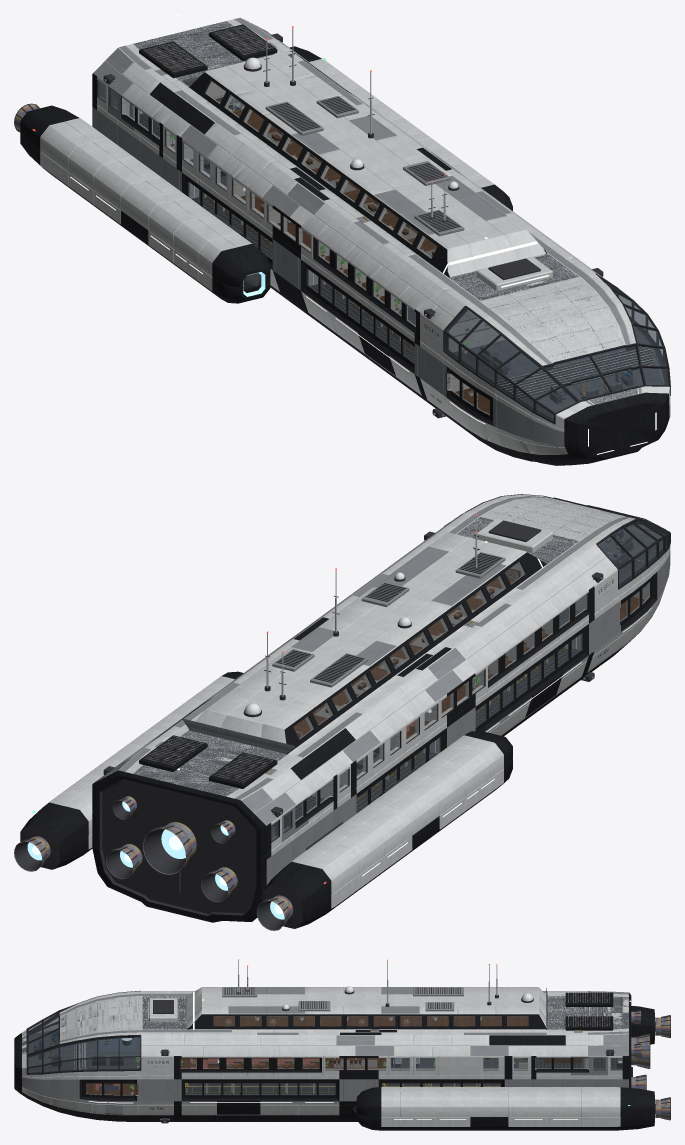
File: Vesper_Explorer.glb
The picture shows the model from 3 angles, top to bottom: view 1: azimuth 30°, elevation 25°; view 2: azimuth 150°, elevation 25°; view 3: azimuth 270°, elevation 25°; orthographic projection. The views are drawn at different scales.
Visible parts, largest first — view 1: Hull, Engine_Pods, Cockpit_Glass, Windows_Glass, Exterior_Details, A-01_Komandnyy_Mostik, Window_Frames, S-01_Obzornyy_Salon, H-01_Proizvodstvennyy_Tsekh_1, A-02_Nosovoy_Kholl, H-02_Proizvodstvennyy_Tsekh_2; view 2: Hull, Engine_Pods, Windows_Glass, Exterior_Details, Engines_Main, S-01_Obzornyy_Salon, Cockpit_Glass, Window_Frames, A-01_Komandnyy_Mostik, H-01_Proizvodstvennyy_Tsekh_1, H-02_Proizvodstvennyy_Tsekh_2; view 3: Hull, Engine_Pods, Windows_Glass, Exterior_Details, Cockpit_Glass, A-01_Komandnyy_Mostik, S-01_Obzornyy_Salon, Window_Frames, H-01_Proizvodstvennyy_Tsekh_1, Engines_Main, A-13_Kayut_Kompaniya_I_Kambuz, B-01_Nosovoy_Salon (+5 smaller).
Part boxes in pixels (left/top/right/bottom): Hull: left=92, top=17, right=670, bottom=465; Engine_Pods: left=14, top=46, right=512, bottom=303; Cockpit_Glass: left=446, top=283, right=668, bottom=420; Windows_Glass: left=98, top=81, right=489, bottom=414; Exterior_Details: left=103, top=24, right=603, bottom=418; A-01_Komandnyy_Mostik: left=453, top=331, right=663, bottom=418; Window_Frames: left=443, top=273, right=670, bottom=424; S-01_Obzornyy_Salon: left=208, top=83, right=437, bottom=257; H-01_Proizvodstvennyy_Tsekh_1: left=311, top=280, right=414, bottom=361; A-02_Nosovoy_Kholl: left=448, top=310, right=504, bottom=352; H-02_Proizvodstvennyy_Tsekh_2: left=192, top=190, right=272, bottom=258; Hull: left=92, top=494, right=670, bottom=922; Engine_Pods: left=14, top=671, right=512, bottom=930; Windows_Glass: left=271, top=562, right=649, bottom=840; Exterior_Details: left=103, top=514, right=603, bottom=817; Engines_Main: left=105, top=796, right=237, bottom=902; S-01_Obzornyy_Salon: left=293, top=564, right=521, bottom=738; Cockpit_Glass: left=598, top=521, right=667, bottom=585; Window_Frames: left=444, top=494, right=670, bottom=589; A-01_Komandnyy_Mostik: left=599, top=525, right=664, bottom=583; H-01_Proizvodstvennyy_Tsekh_1: left=475, top=634, right=581, bottom=725; H-02_Proizvodstvennyy_Tsekh_2: left=356, top=748, right=436, bottom=812; Hull: left=14, top=987, right=631, bottom=1121; Engine_Pods: left=353, top=1006, right=670, bottom=1130; Windows_Glass: left=86, top=1016, right=622, bottom=1095; Exterior_Details: left=148, top=959, right=615, bottom=1123; Cockpit_Glass: left=28, top=1010, right=139, bottom=1072; A-01_Komandnyy_Mostik: left=28, top=1030, right=140, bottom=1072; S-01_Obzornyy_Salon: left=213, top=1016, right=528, bottom=1026; Window_Frames: left=26, top=990, right=141, bottom=1074; H-01_Proizvodstvennyy_Tsekh_1: left=185, top=1083, right=335, bottom=1094; Engines_Main: left=631, top=1010, right=650, bottom=1089; A-13_Kayut_Kompaniya_I_Kambuz: left=325, top=1058, right=386, bottom=1068; B-01_Nosovoy_Salon: left=86, top=1083, right=138, bottom=1094.
Size of the model in its own units: 36.82 by 26.84 by 103.
Materials: 68 (43 with a texture image).
